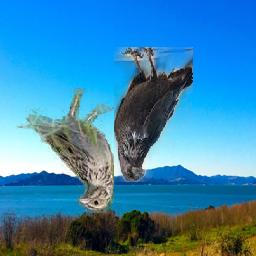Crow: (115, 48, 194, 183)
Sparrow: (14, 89, 114, 214)
